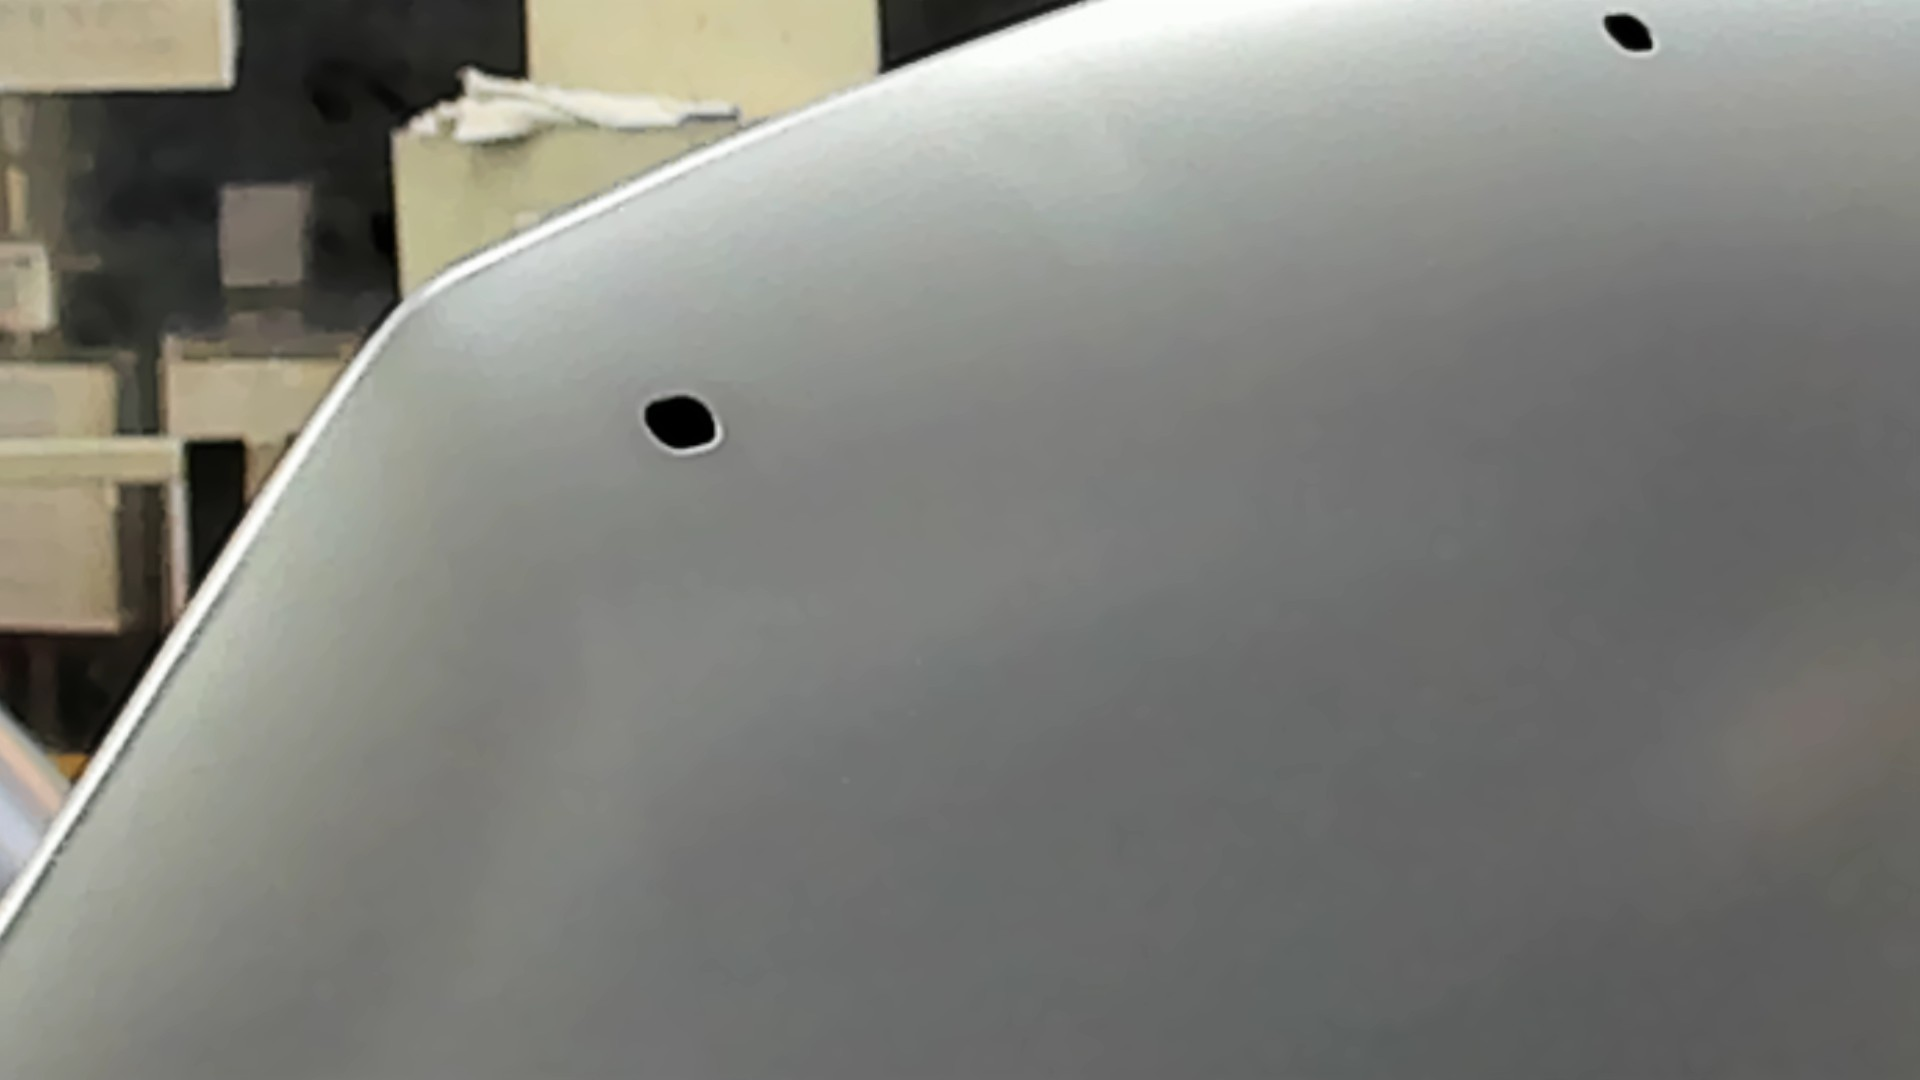amorfo: (641, 386, 729, 459), (1597, 7, 1664, 61)
